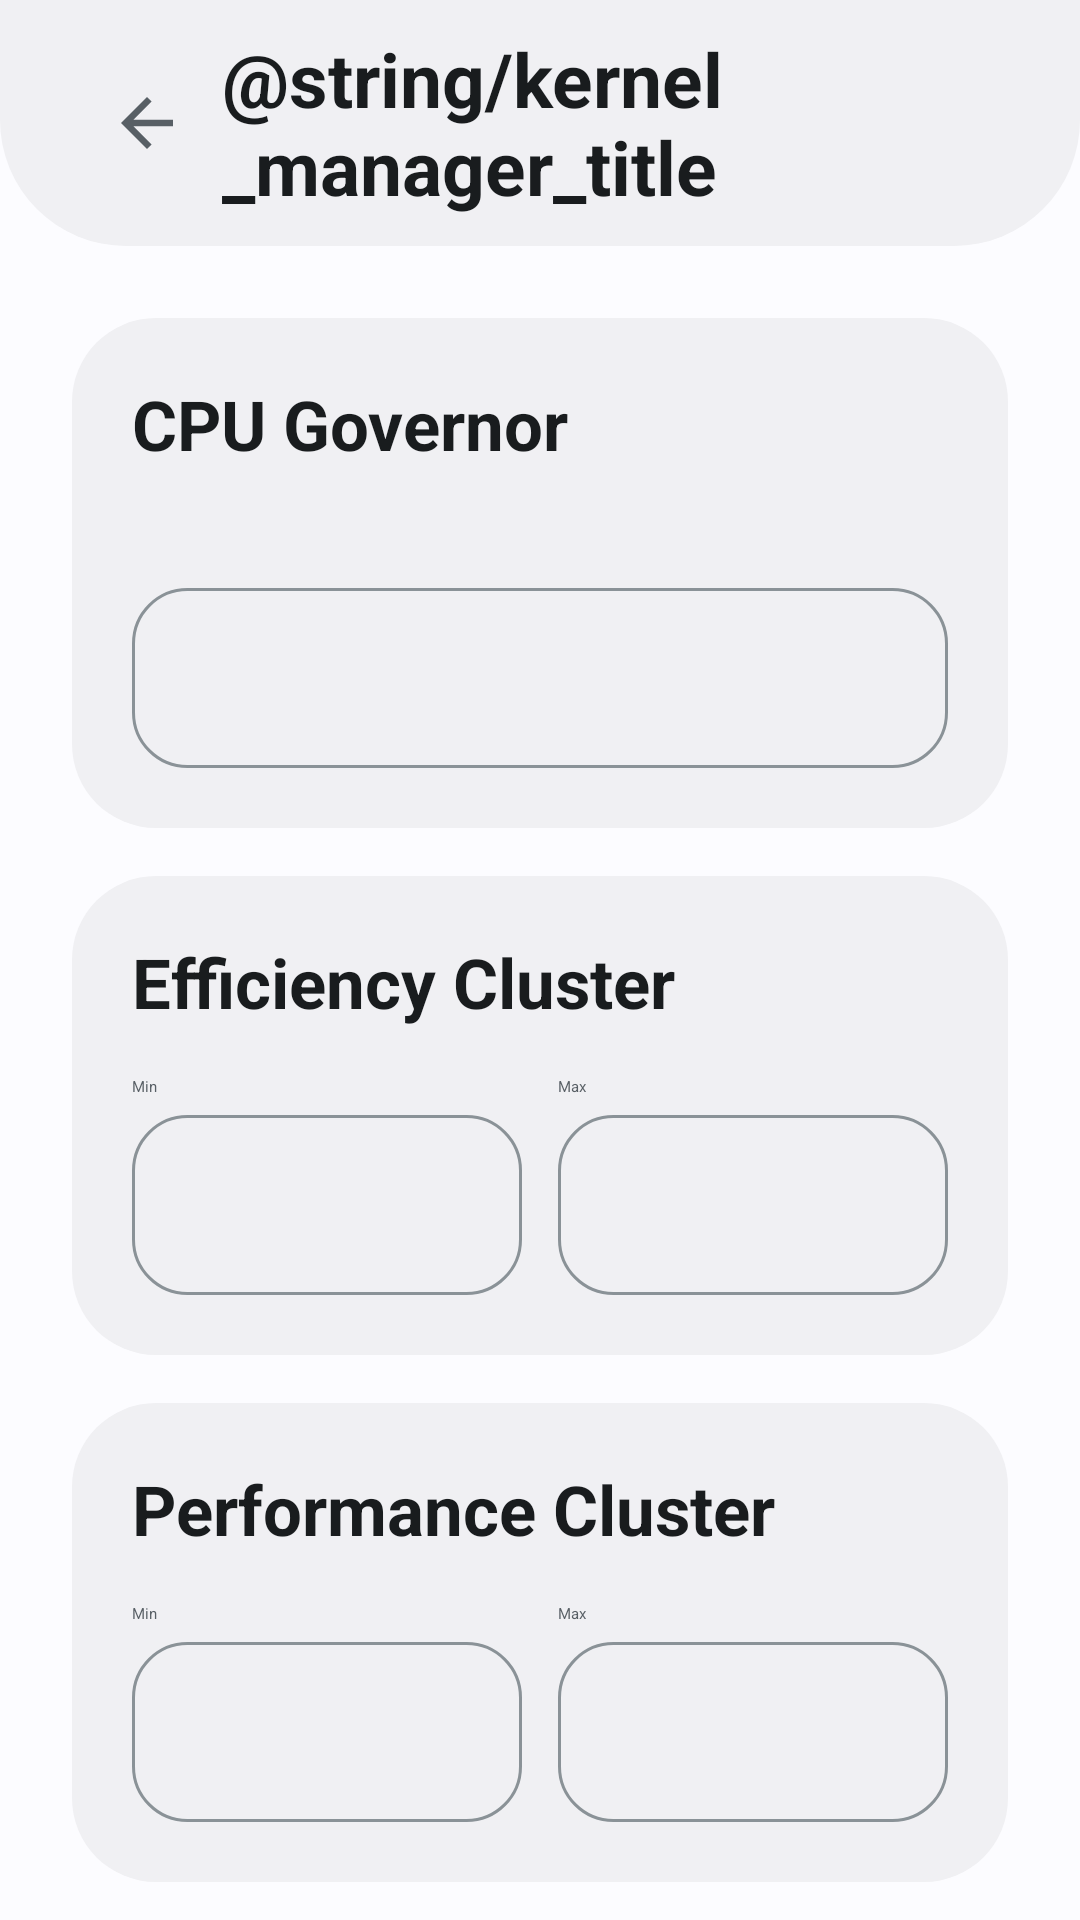

Where to tap for icons on this 1080 x 1920 app screen, as (x,y):
arrow back: (147,123)
